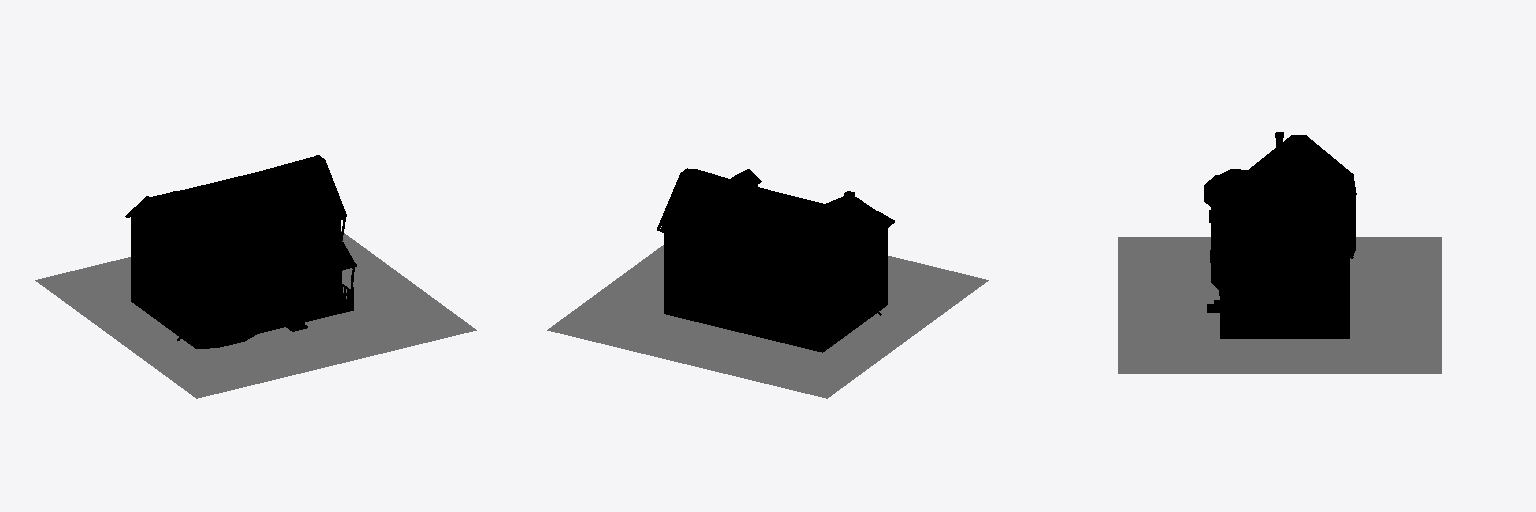
Rendered from housetry3.obj.
3 renders of one model, left to right at view 1: azimuth 30°, elevation 25°; view 2: azimuth 150°, elevation 25°; view 3: azimuth 270°, elevation 25°, orthographic.
Visible parts, largest first — view 1: ground_plane, newhouse house_base, newhouse main_roofs roof2, newhouse roof1 main_roofs; view 2: ground_plane, newhouse house_base, newhouse main_roofs roof2; view 3: ground_plane, newhouse house_base, newhouse main_roofs roof2, newhouse roof1 main_roofs.
Part boxes in pixels (bbox=[...]): ground_plane: bbox=[35, 231, 476, 398]; newhouse house_base: bbox=[131, 201, 353, 348]; newhouse main_roofs roof2: bbox=[129, 156, 344, 267]; newhouse roof1 main_roofs: bbox=[258, 242, 355, 288]; ground_plane: bbox=[547, 245, 988, 398]; newhouse house_base: bbox=[664, 210, 887, 352]; newhouse main_roofs roof2: bbox=[660, 169, 892, 270]; ground_plane: bbox=[1118, 237, 1441, 373]; newhouse house_base: bbox=[1207, 142, 1349, 338]; newhouse main_roofs roof2: bbox=[1206, 137, 1356, 255]; newhouse roof1 main_roofs: bbox=[1220, 236, 1246, 294].
Size of the model in its own units: 56.19 by 31.83 by 56.19.